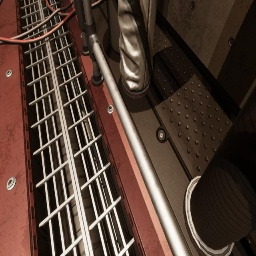NitrogenTank ,: (106, 0, 120, 55)
